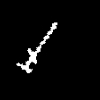double_crochet: (17, 23, 56, 72)
